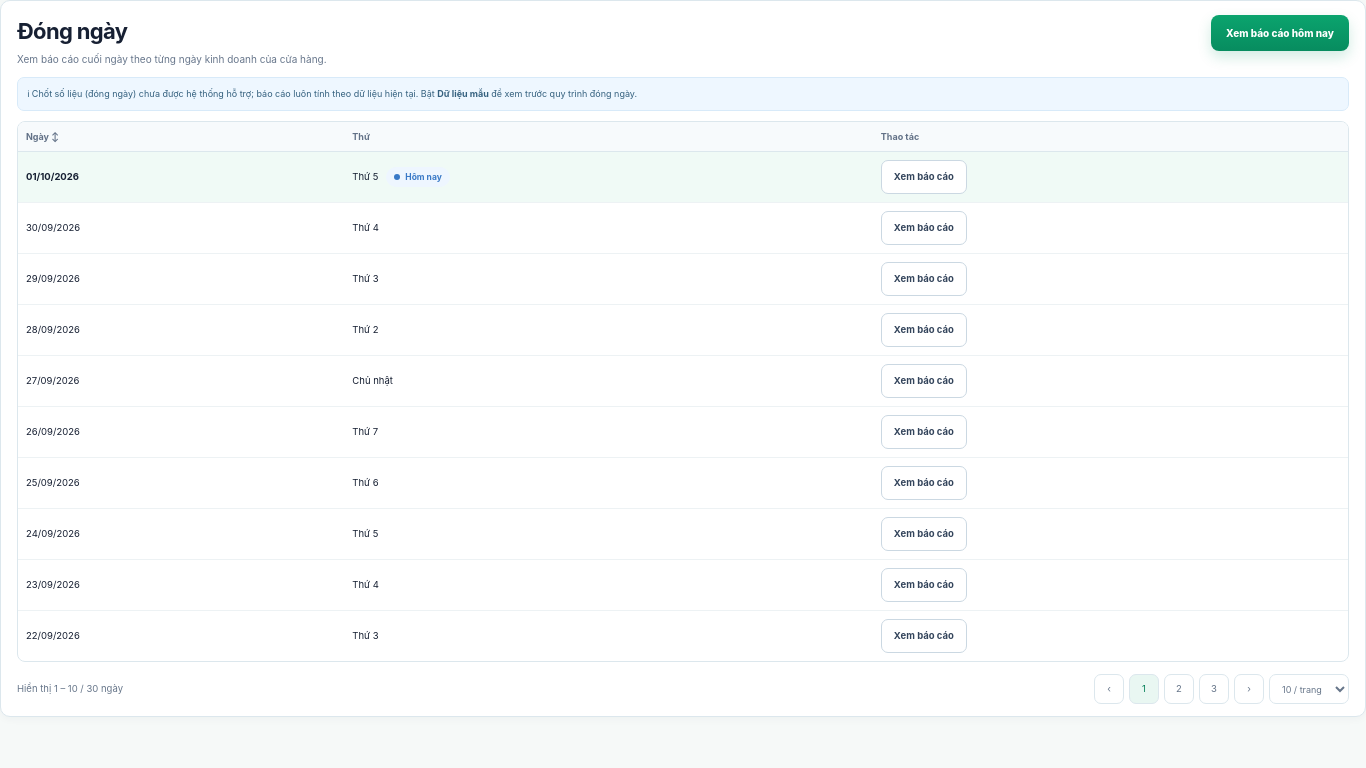
DayCloseView with live data › shows the report aggregates, cost reliability and its explanation without claiming locked figures
Click the button with aria-label "Xem báo cáo ngày 30/09/2026": (924, 228) [881,211,967,245]
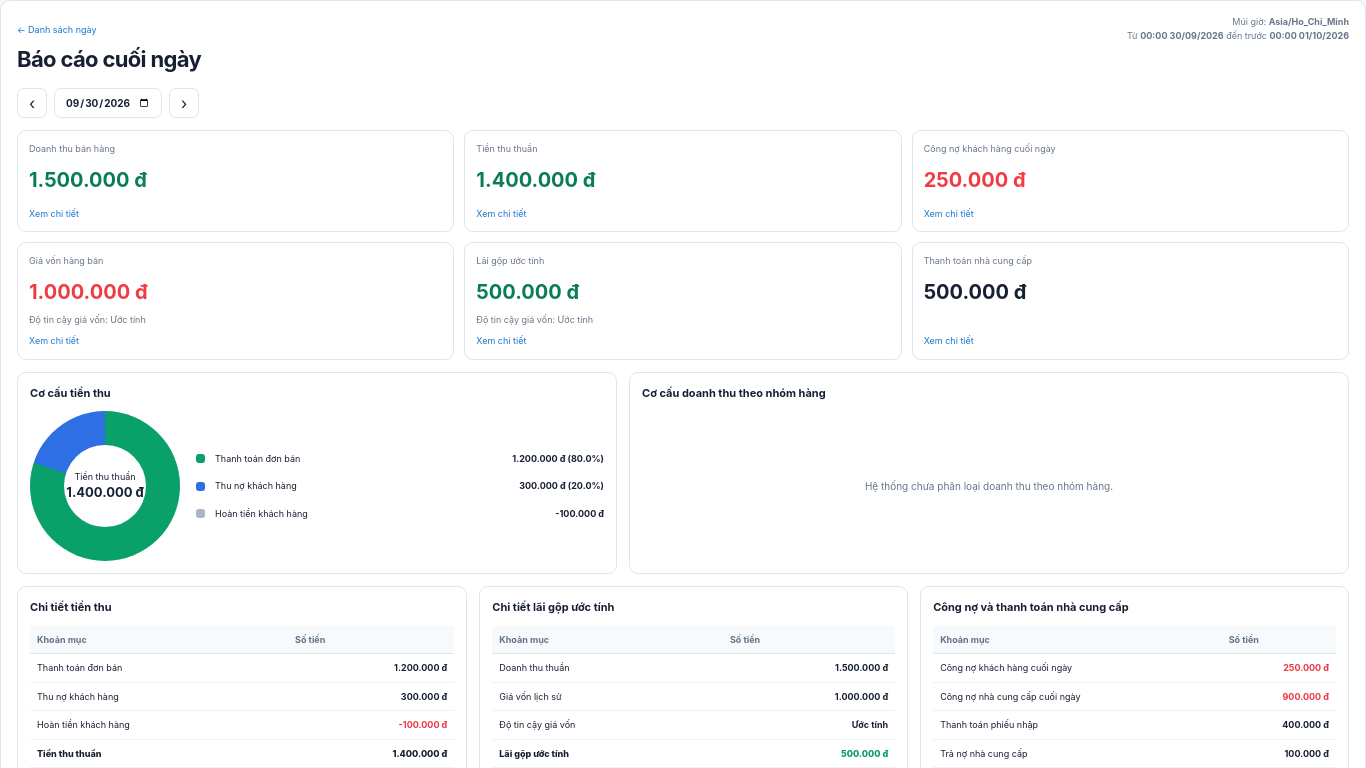
expect the text "Độ tin cậy giá vốn: Ước tính" is shown: met, box [29,312,146,326]
expect the text "Hệ thống chưa phân loại doanh thu theo nhóm hàng." is shown: met, box [865,480,1113,492]
expect the element with class "dayclose-meta" shows "00:00 30/09/2026": met, box [1140,30,1224,41]
Click the button with aria-label "Xem chi tiết Tiền thu thuần": (501, 213) [476,206,526,220]
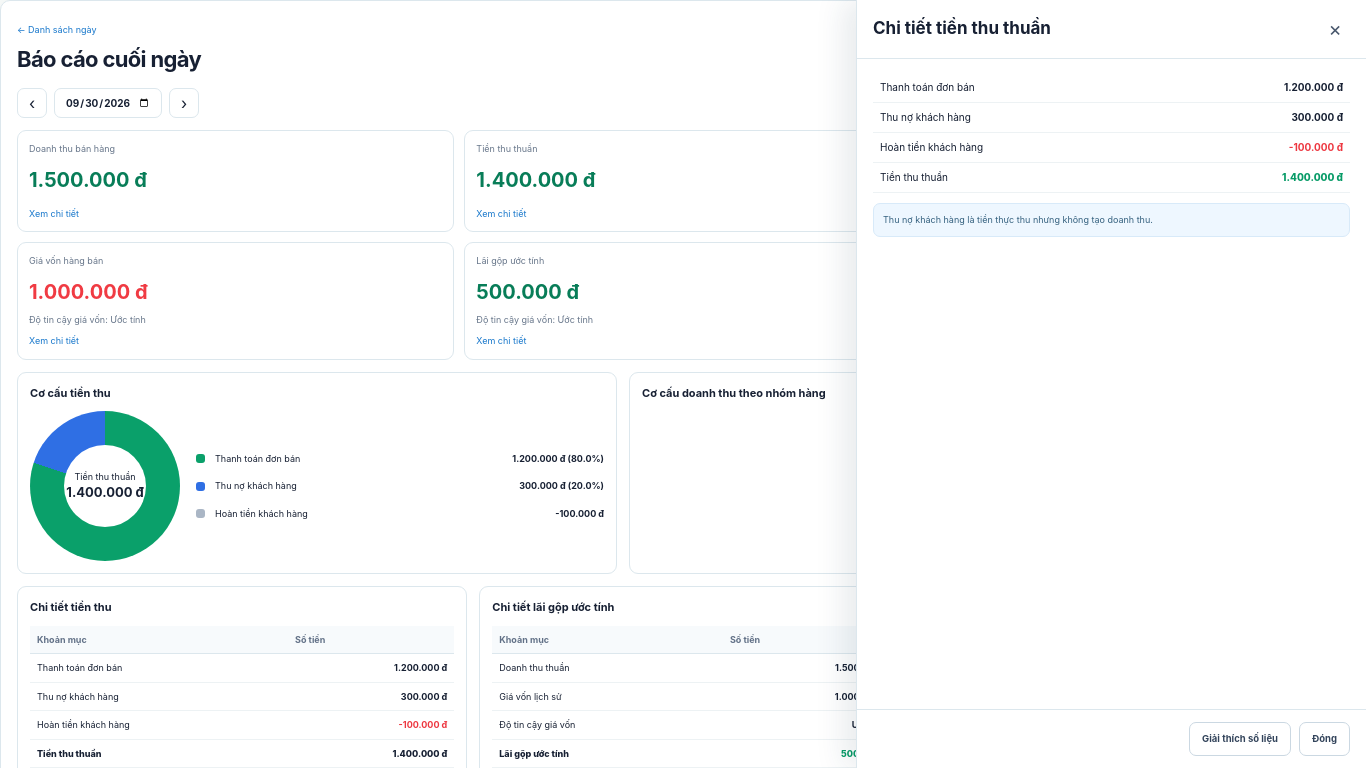
expect the dialog named "Chi tiết tiền thu thuần" shows "Hoàn tiền khách hàng": met, box [880,141,983,153]
expect the dialog named "Chi tiết tiền thu thuần" shows "-100.000 đ": met, box [1289,141,1343,153]
Click the button "Giải thích số liệu": (1240, 739) [1189,722,1291,756]
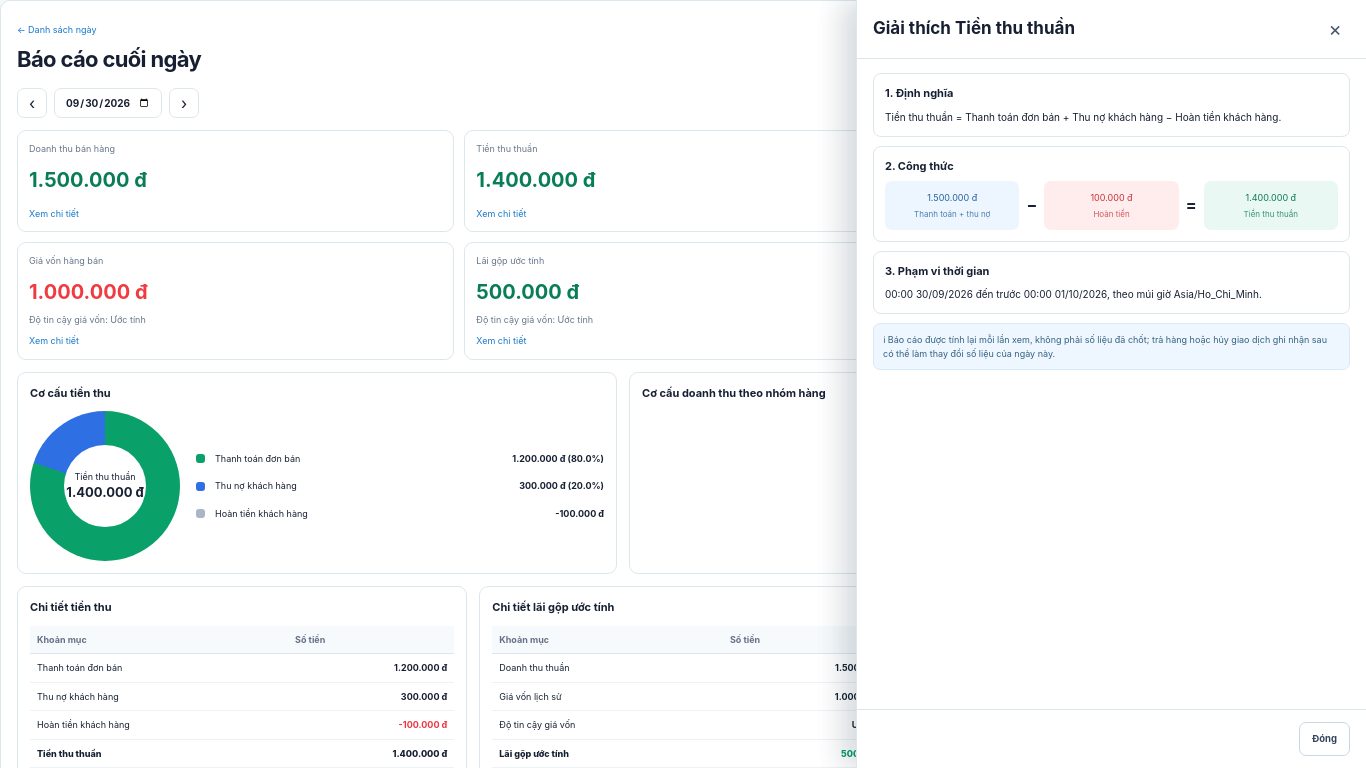
expect the elements with class "dayclose-formula-box" read "1.500.000 đThanh toán + thu nợ", "100.000 đHoàn tiền", "1.400.000 đTiền thu thuần", in this order: met, box [885,181,1019,230]; [1044,181,1179,230]; [1204,181,1338,230]
expect the dialog named "Giải thích Tiền thu thuần" shows "không phải số liệu đã chốt": met, box [883,334,1327,358]
